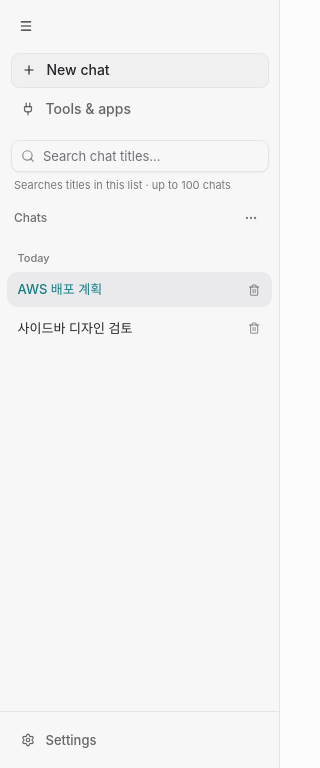
ChatSidebar title search › distinguishes no matches from no conversations and restores the list with focus
The width and height of the screenshot is (320, 768).
In the field labelled "Search chat titles": (140, 156) [10,140,268,172], type "missing"
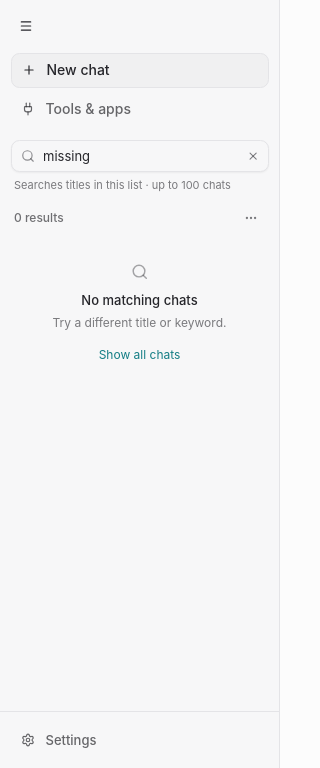
Result: the text "No matching chats" is shown at [81,292,198,308]
Click the button "Show all chats": (139, 355) [92,343,187,368]
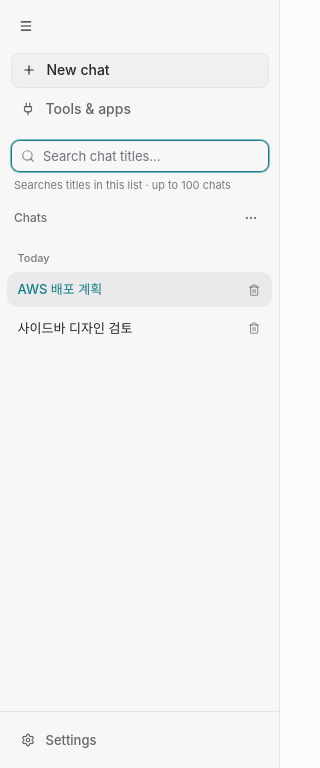
Result: the field labelled "Search chat titles" is empty
Result: the text "Today" is shown at [18,251,50,265]
In the field labelled "Search chat titles": (140, 156) [10,140,268,172], type "missing"
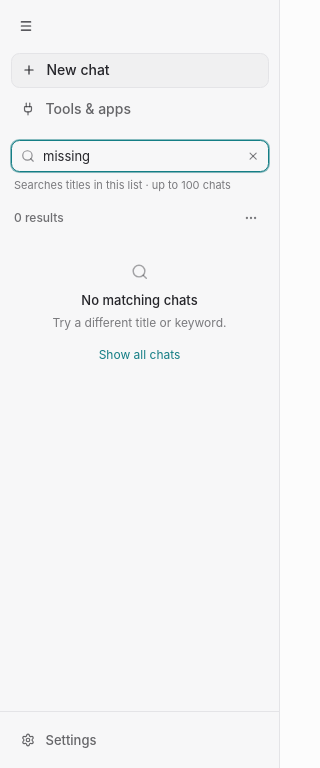
Press Escape in the field named "Search chat titles", box [10,140,268,172]
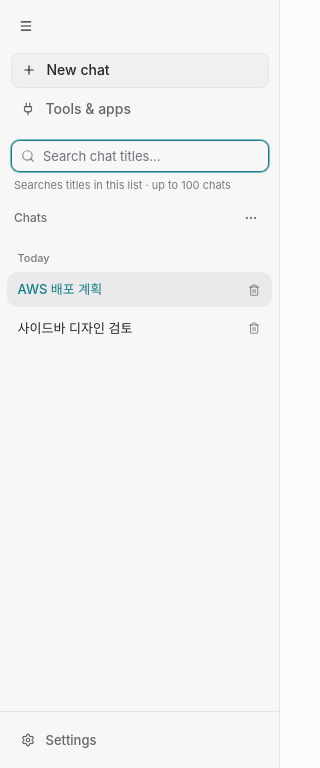
Result: the field labelled "Search chat titles" is empty at [10,140,268,172]
Result: the text "No matching chats" is gone
